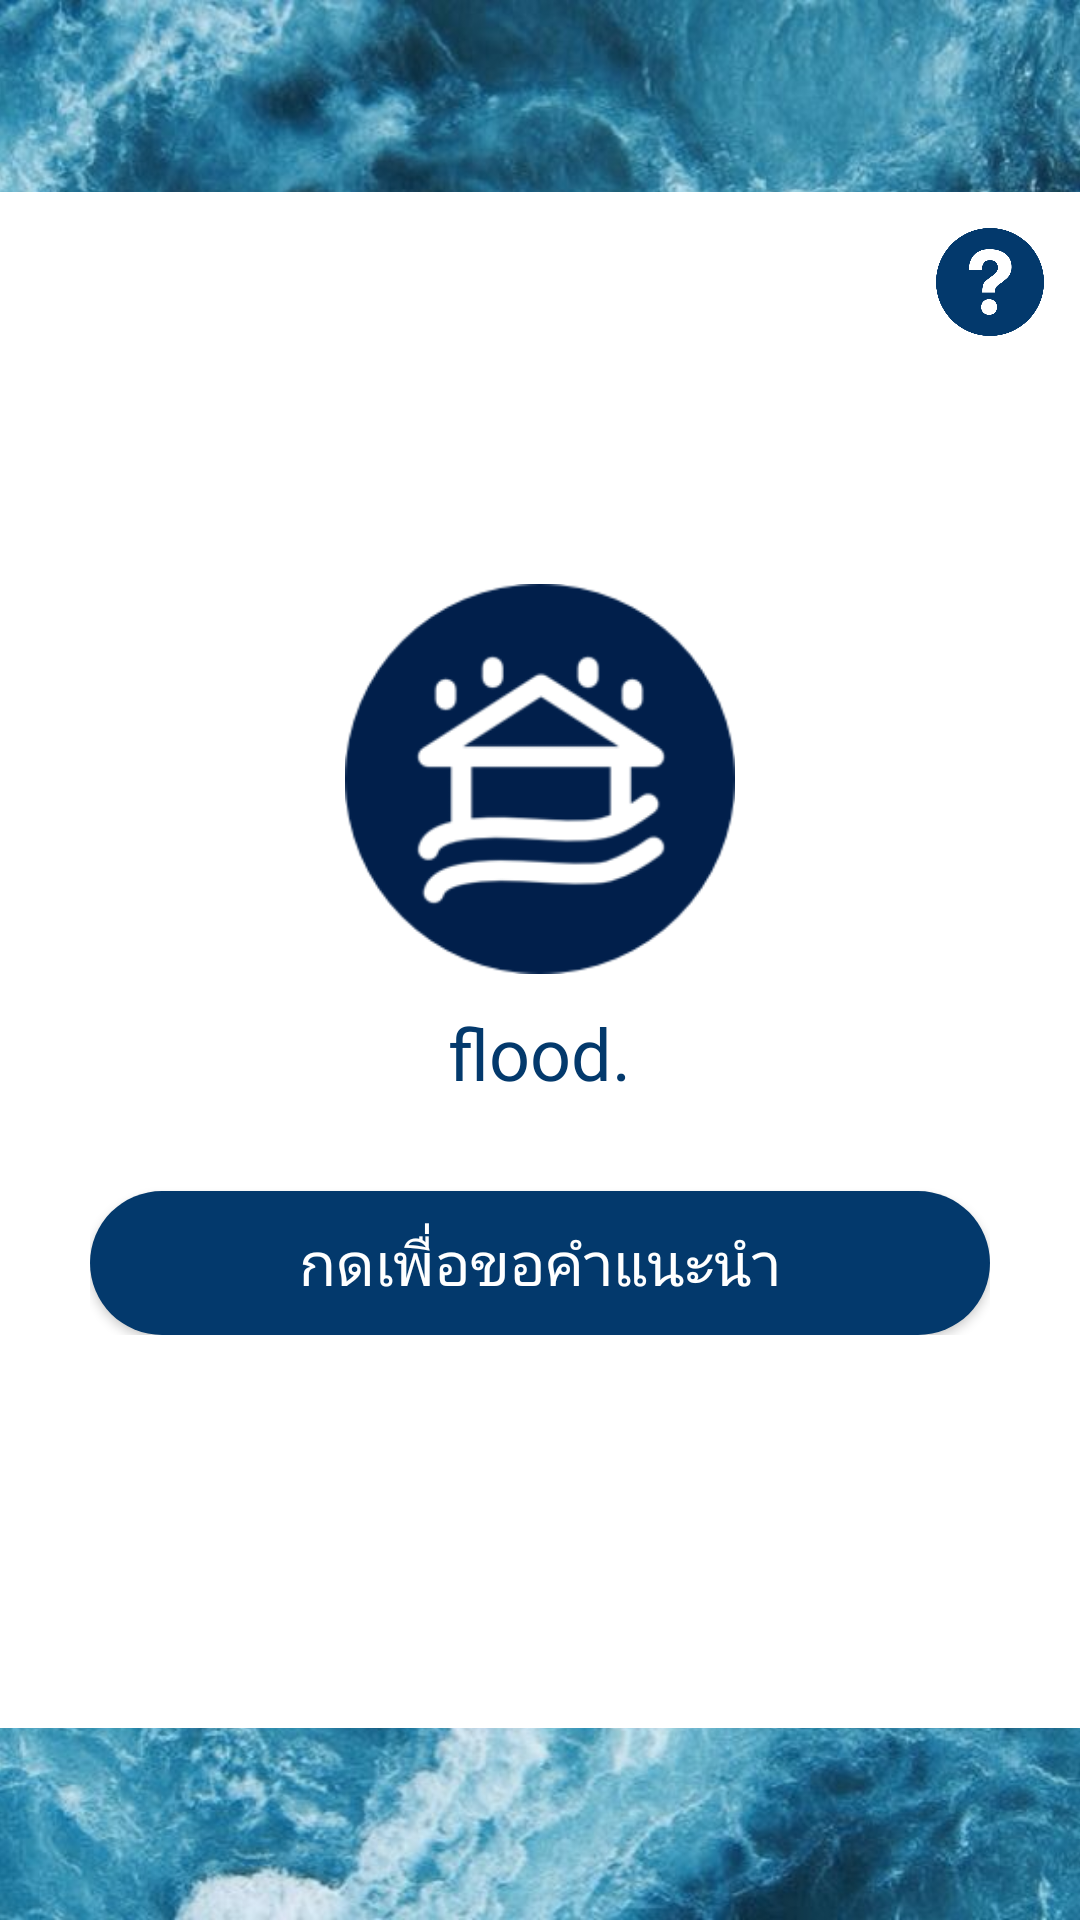

Where to tap for icons on this 1080x1920 app screen, as (x,y):
help select: (990,282)
